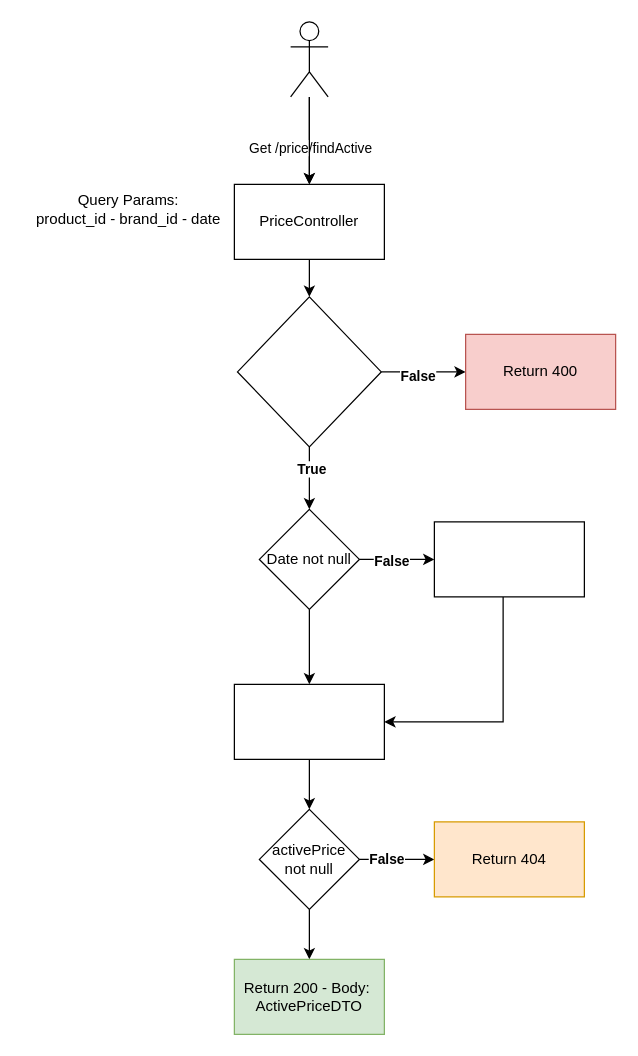
Some shapes in this 638 by 1056 pixel diagram are drawn without their labels. The shapes that lost their labels are listed below. From the top down, each one's centre as x and y in pixels, then its label:
point (308, 371): Brand or Product not null
point (508, 559): set date = LocalDateTime.now()
point (308, 721): FindActivePrice
